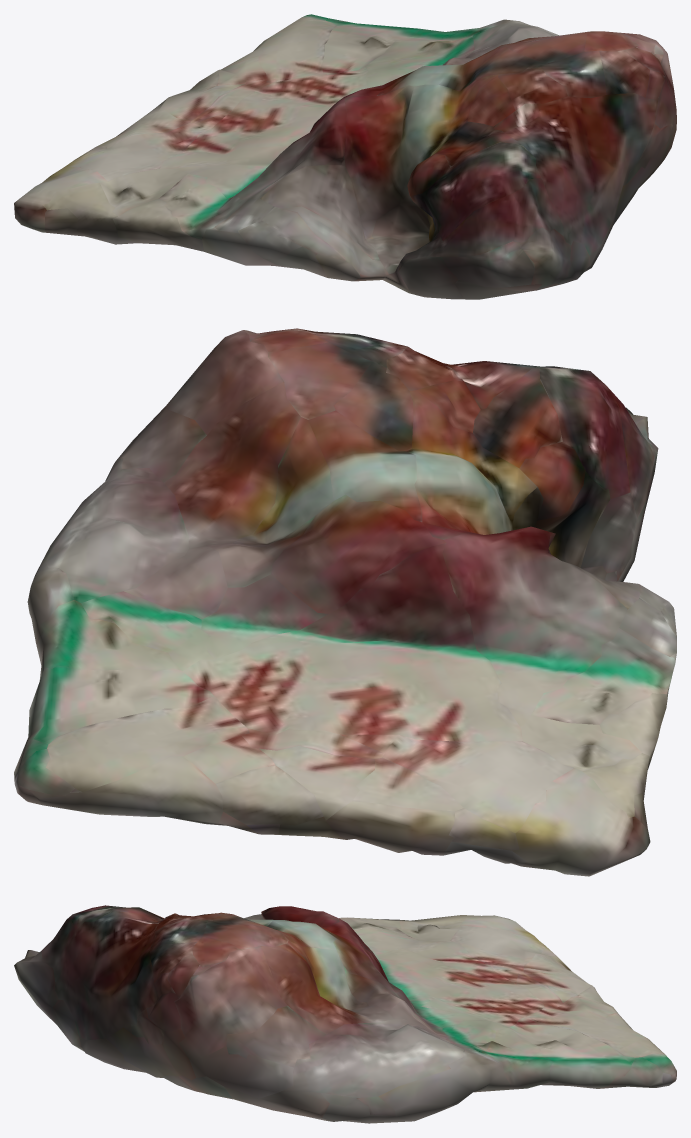
The model's file is hall.glb.
The picture shows the model from 3 angles, top to bottom: view 1: azimuth 30°, elevation 25°; view 2: azimuth 150°, elevation 25°; view 3: azimuth 270°, elevation 25°; orthographic projection. The views are drawn at different scales.
Bounding box in the file's own units: 0.5793 × 0.2116 × 0.6872.
Materials: 1 (1 with a texture image).
